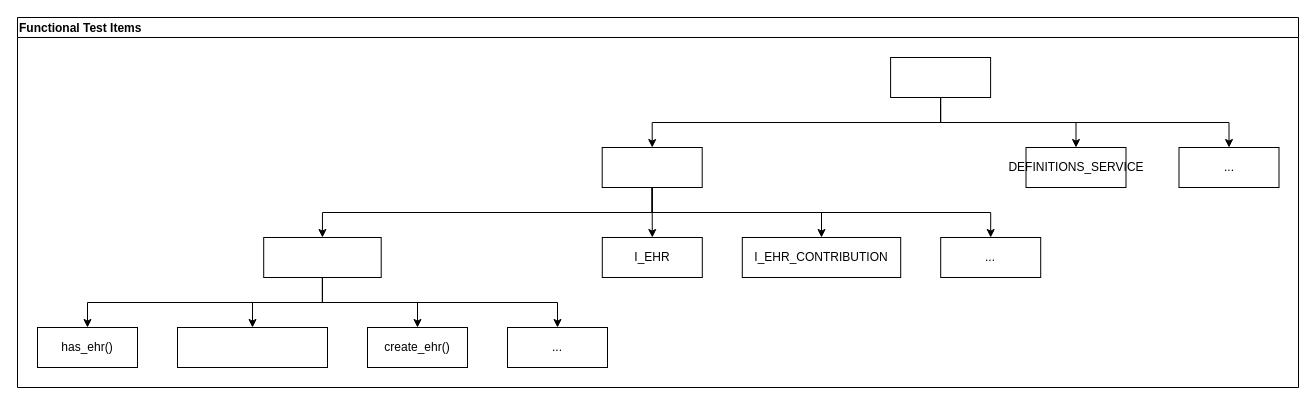
This 1316x405 diagram has some shape labels left out. The shapes that lost their labels are listed below. From the top down, each one's centre as x and y in pixels, then its label:
At [940,77]: "Service Model".
At [651,167]: "EHR_SERVICE".
At [322,257]: "I_EHR_SERVICE".
At [252,347]: "has_ehr_for_subject()".
